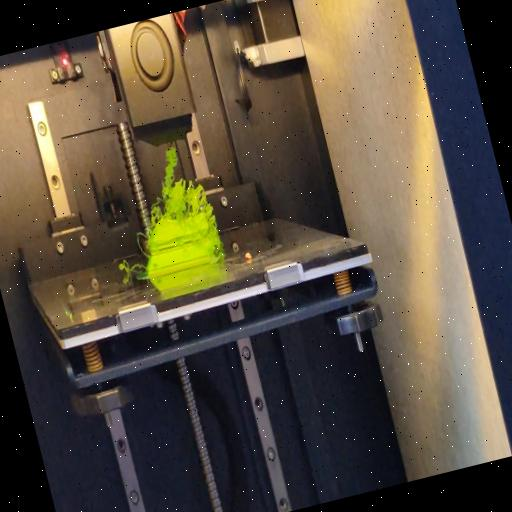spaghetti: (134, 141, 212, 225), (118, 256, 150, 278), (134, 229, 151, 262), (214, 244, 230, 262)
